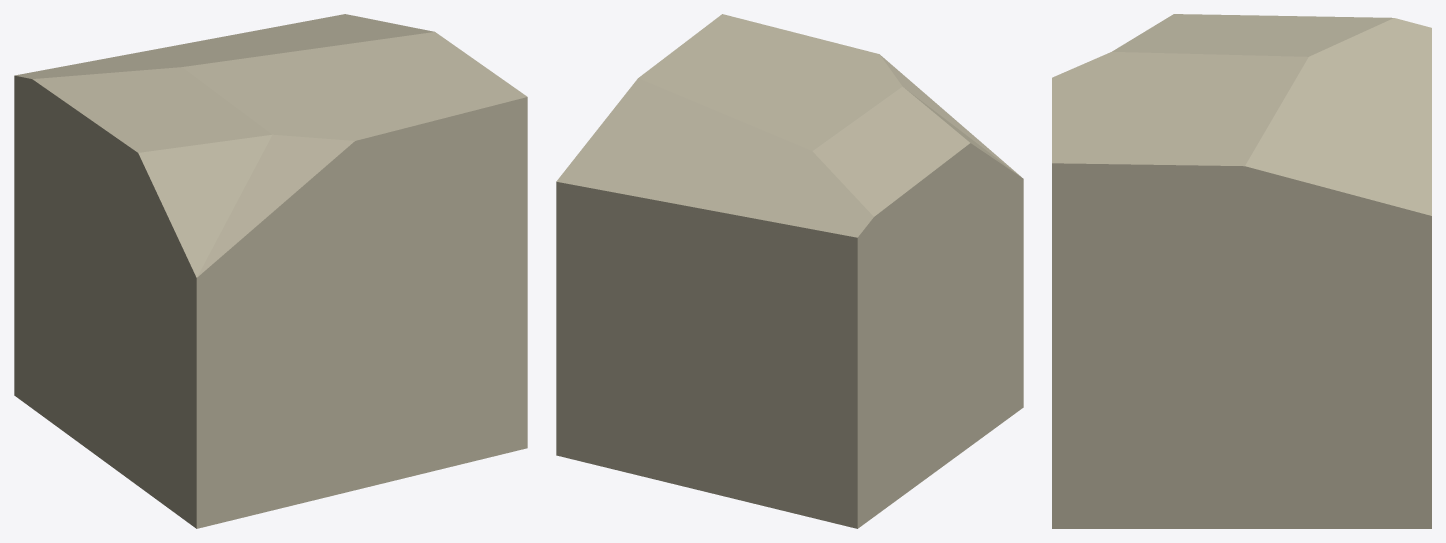
The model's file is Rock_Square_m_10.fbx.
The picture shows the model from 3 angles, left to right: view 1: azimuth 30°, elevation 25°; view 2: azimuth 150°, elevation 25°; view 3: azimuth 270°, elevation 25°; orthographic projection. The views are drawn at different scales.
Parts seen in each view (by area): view 1: Rock_Square_m_10; view 2: Rock_Square_m_10; view 3: Rock_Square_m_10.
Part boxes in pixels (x1,y1,x2,y2): Rock_Square_m_10: (14,14,527,528); Rock_Square_m_10: (556,14,1023,528); Rock_Square_m_10: (1052,14,1431,528).
Bounding box in the file's own units: 39.52 × 40.08 × 37.73.
